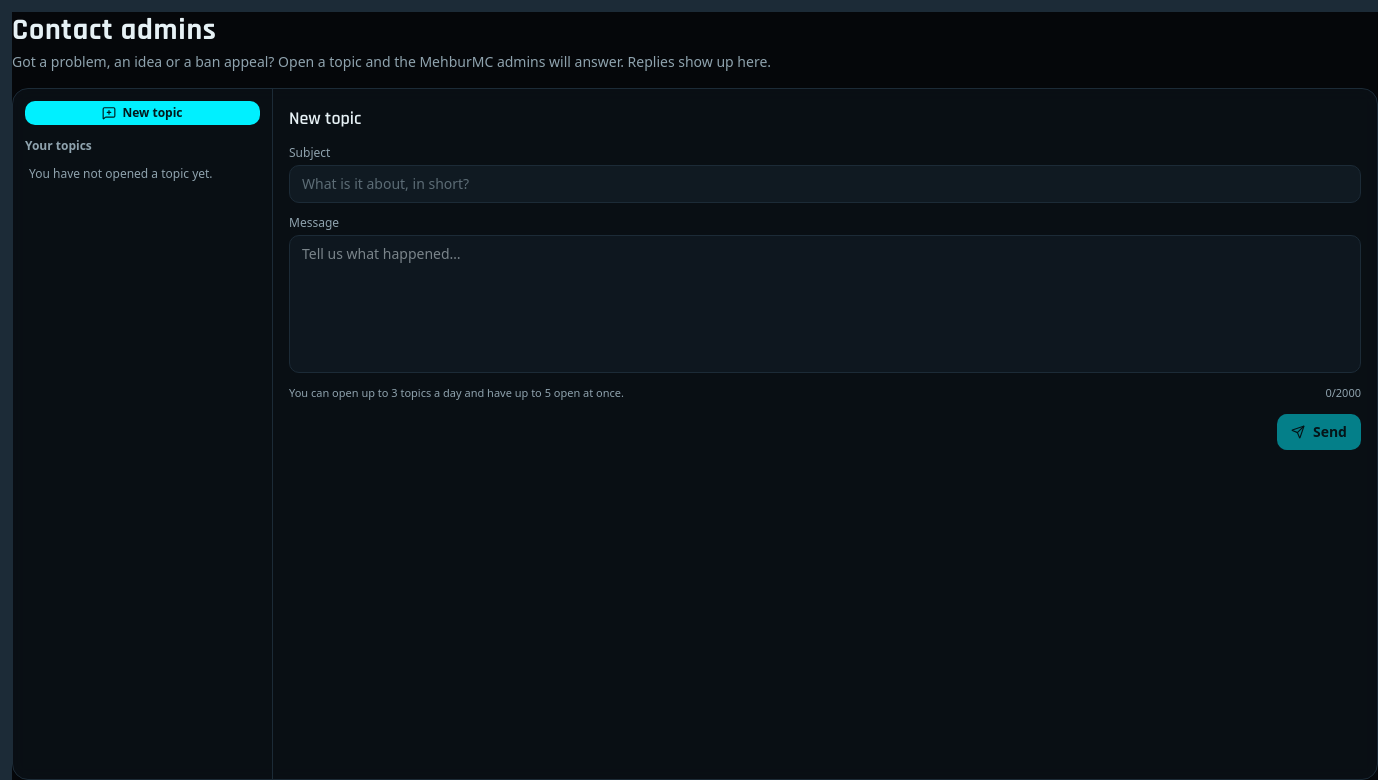
Contact admins › opens a topic and shows it
Expected: the list item "You have not opened a topic yet." is shown, [29, 165, 213, 182]
Expected: the button "Send" is disabled, [1277, 414, 1361, 450]
Step 1. Type "Ban appeal" into the field with placeholder "What is it about, in short?" → (825, 184), box [289, 165, 1361, 203]
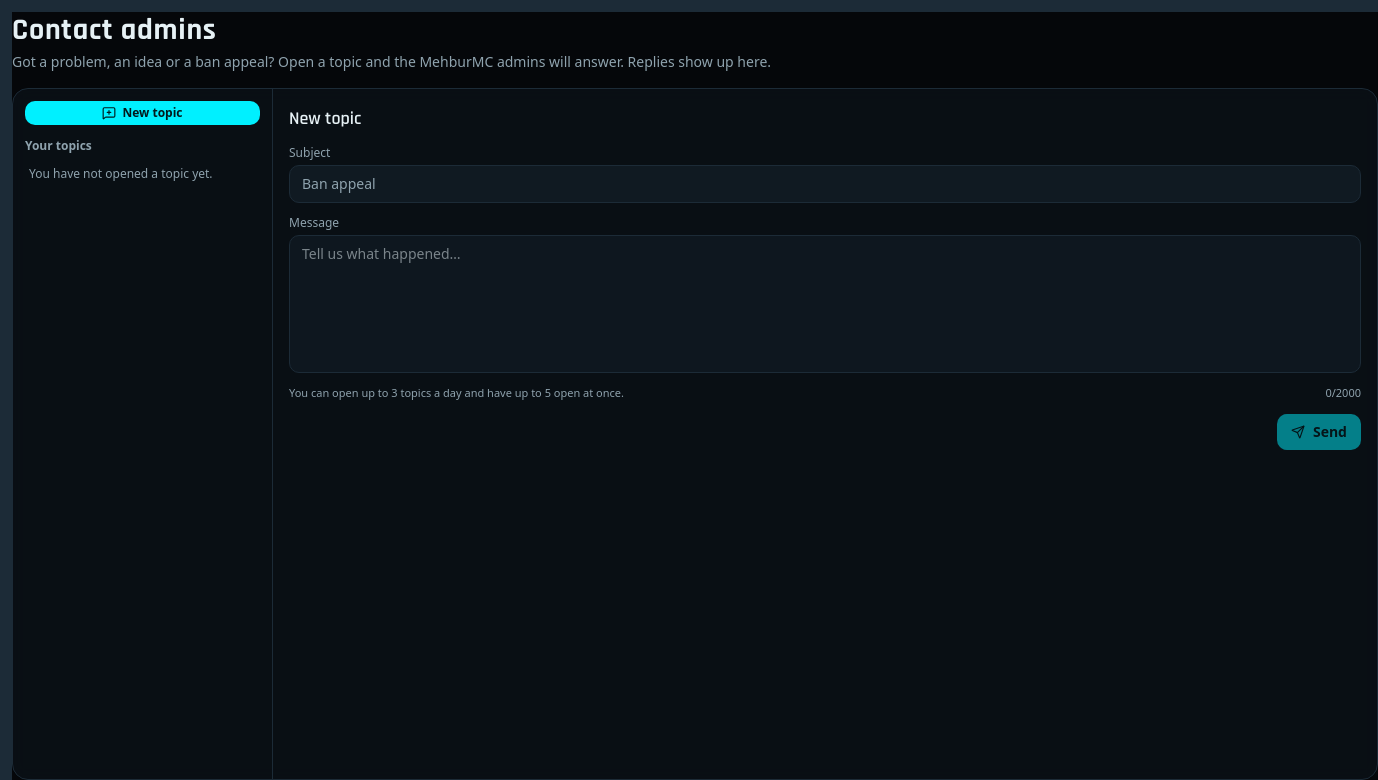
Step 2. Type "Please unban me" into the text box with placeholder "Tell us what happened…" → (825, 304), box [289, 235, 1361, 373]
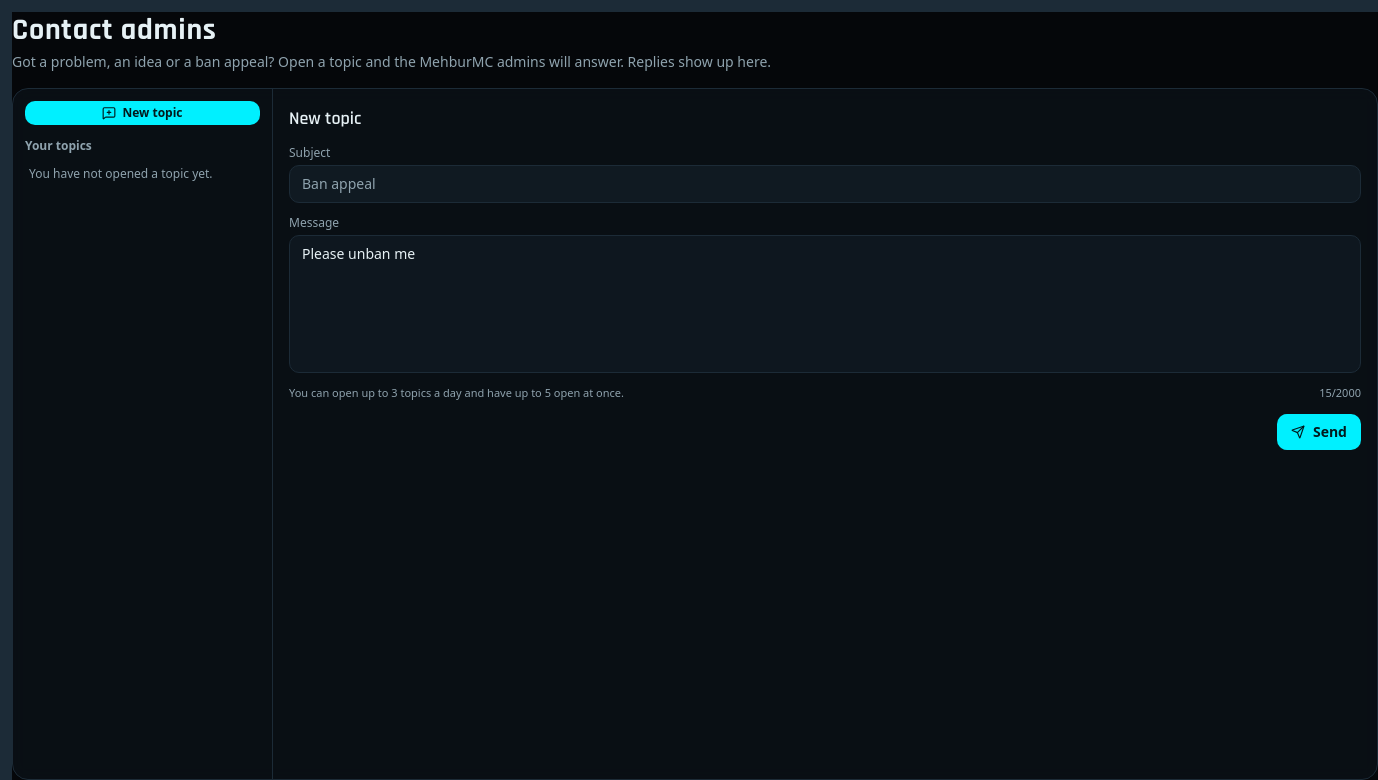
Step 3. Click the button "Send" → (1319, 432), box [1277, 414, 1361, 450]
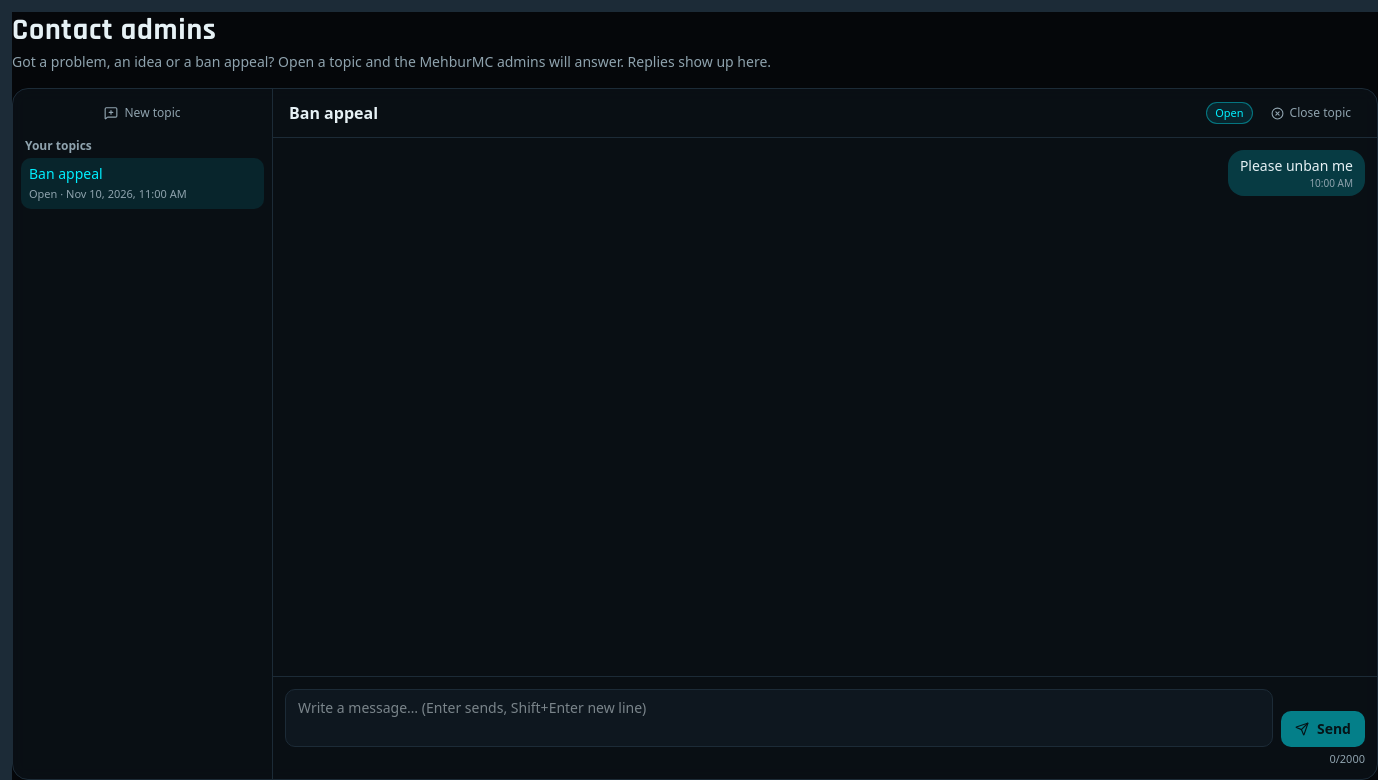
Result: the element named "Ban appeal" is shown at [1228, 150, 1365, 196]
Result: the text "Please unban me" is shown at [1240, 156, 1353, 176]
